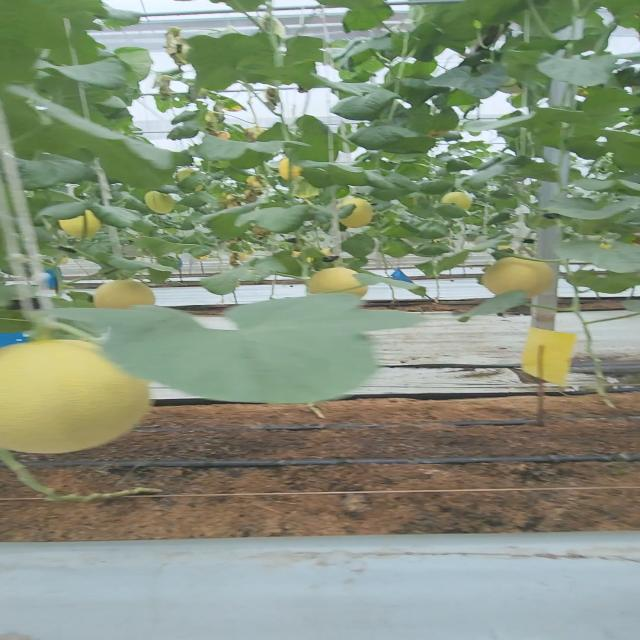Melon: (0, 342, 164, 456)
